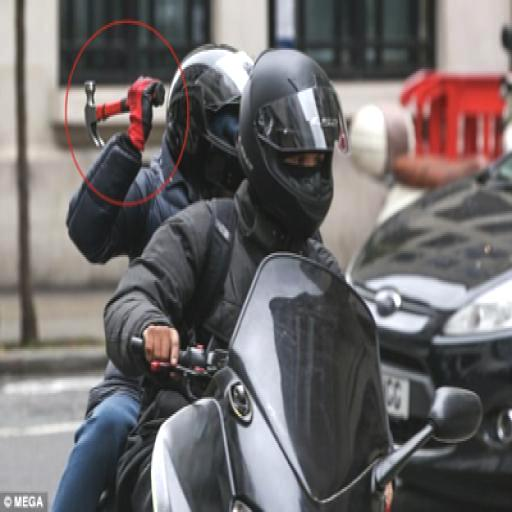helmet: (208, 32, 486, 502)
